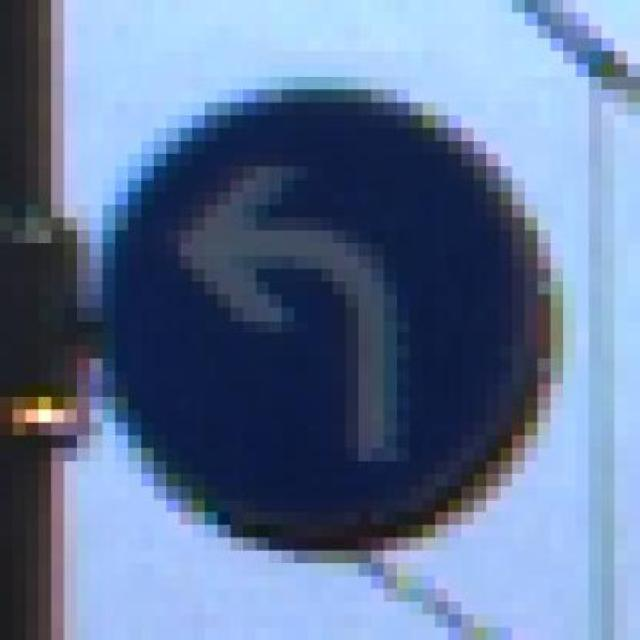Turn left ahead: (90, 76, 588, 576)
